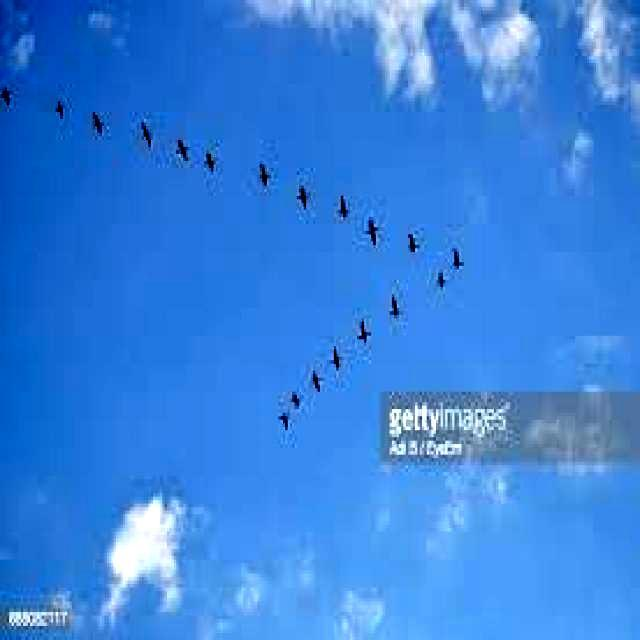bird: (0, 64, 32, 141), (247, 143, 282, 196), (84, 100, 122, 148), (53, 84, 86, 133), (382, 282, 410, 334), (321, 331, 347, 386), (202, 140, 235, 182), (346, 311, 374, 360), (128, 110, 162, 145), (445, 243, 473, 285), (168, 124, 196, 163), (305, 356, 326, 406), (404, 231, 434, 266), (282, 383, 305, 425), (334, 183, 355, 226), (289, 173, 312, 212), (270, 409, 300, 438), (362, 212, 382, 244), (436, 266, 452, 301)
